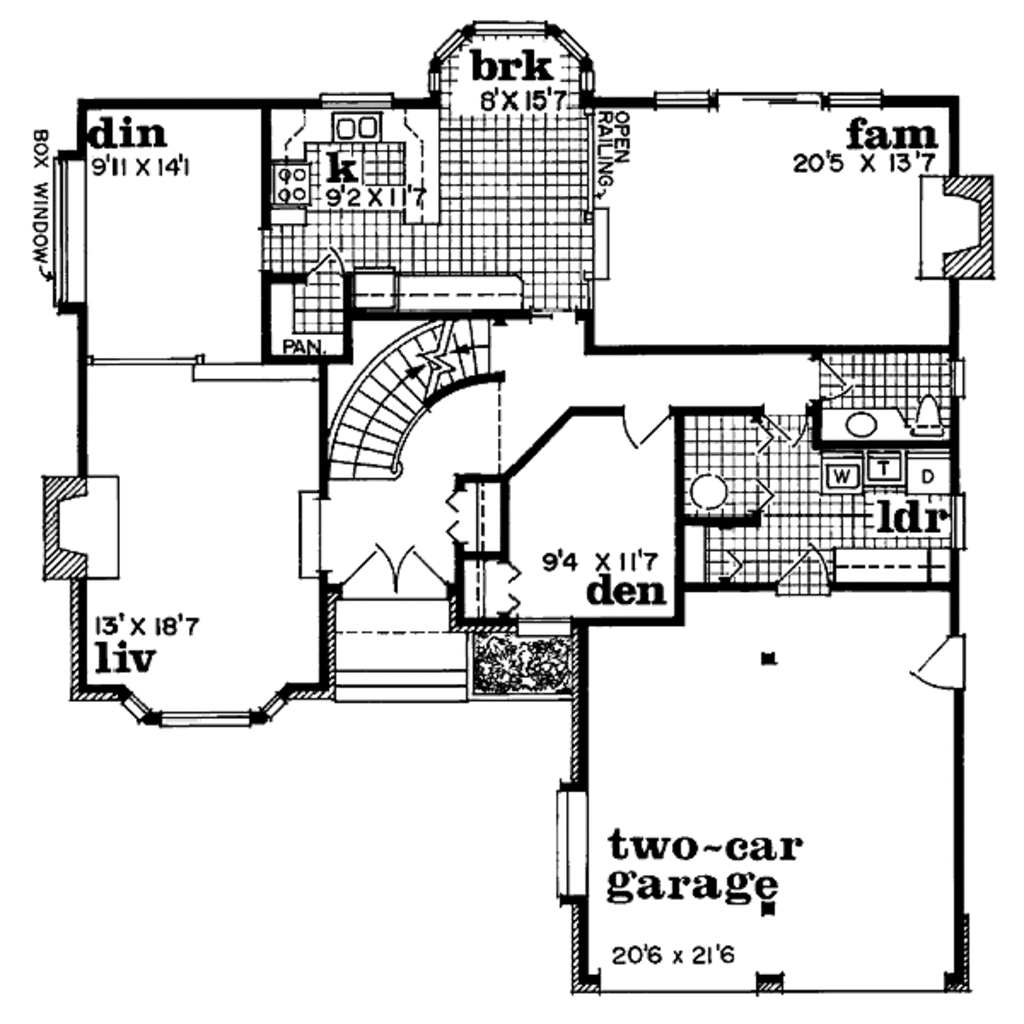door: (324, 546, 448, 603), (774, 544, 841, 604), (912, 636, 981, 693), (619, 398, 673, 453), (817, 356, 864, 403), (767, 406, 812, 453)
large_sink: (909, 388, 955, 445)
small_sink: (827, 412, 898, 440)
stairs: (326, 324, 503, 486)
twin_sink: (318, 110, 396, 146)
window: (417, 18, 610, 94), (108, 684, 302, 735), (553, 779, 602, 904), (650, 91, 739, 121), (315, 82, 406, 111), (832, 92, 891, 113)
